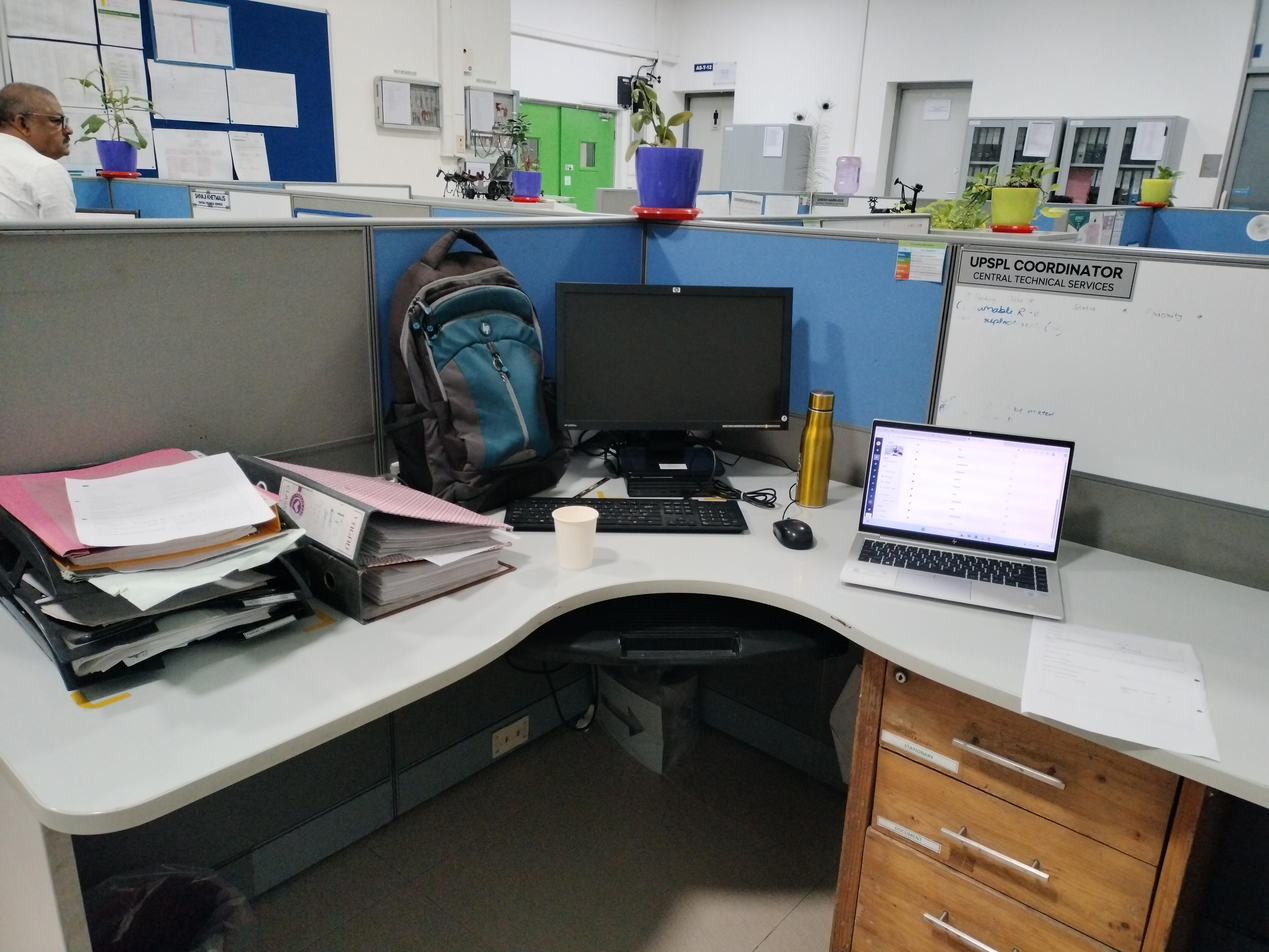StickyNotes: (893, 237, 949, 288)
bag: (385, 225, 568, 514)
bottle: (793, 388, 838, 510)
desktop: (552, 280, 798, 480)
file: (235, 453, 519, 627)
filetray: (0, 444, 319, 700)
keyboard: (502, 493, 751, 535)
laptop: (832, 416, 1077, 623)
mouse: (770, 516, 815, 552)
mug: (549, 504, 602, 573)
nameplate: (956, 245, 1139, 302)
vase: (625, 138, 711, 227)
